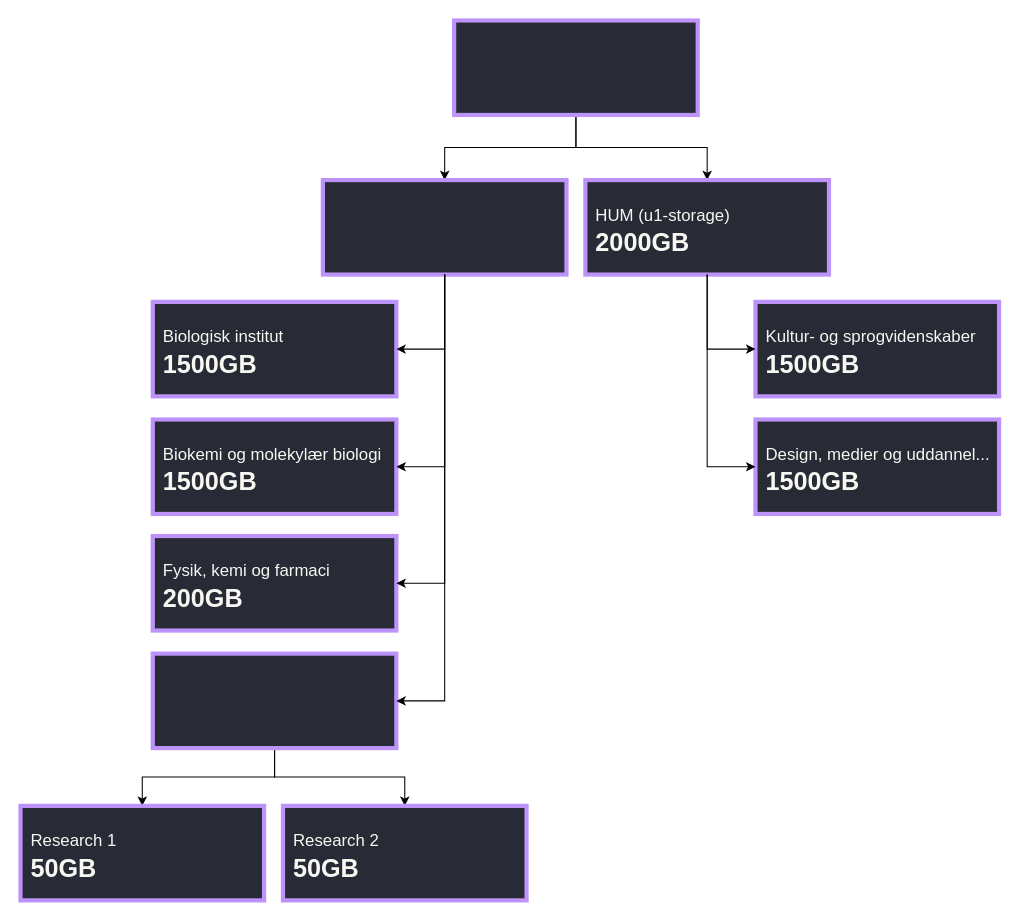
This 1018x920 diagram has some shape labels left out. The shapes that lost their labels are listed below. From the top down, each one's centre as x and y in pixels, then its label:
At [575,67]: "SDU (u1-storage) 1000GB".
At [444,226]: "NAT (u1-storage) 1000GB".
At [274,700]: "Matematik og datalogi 10GB".
